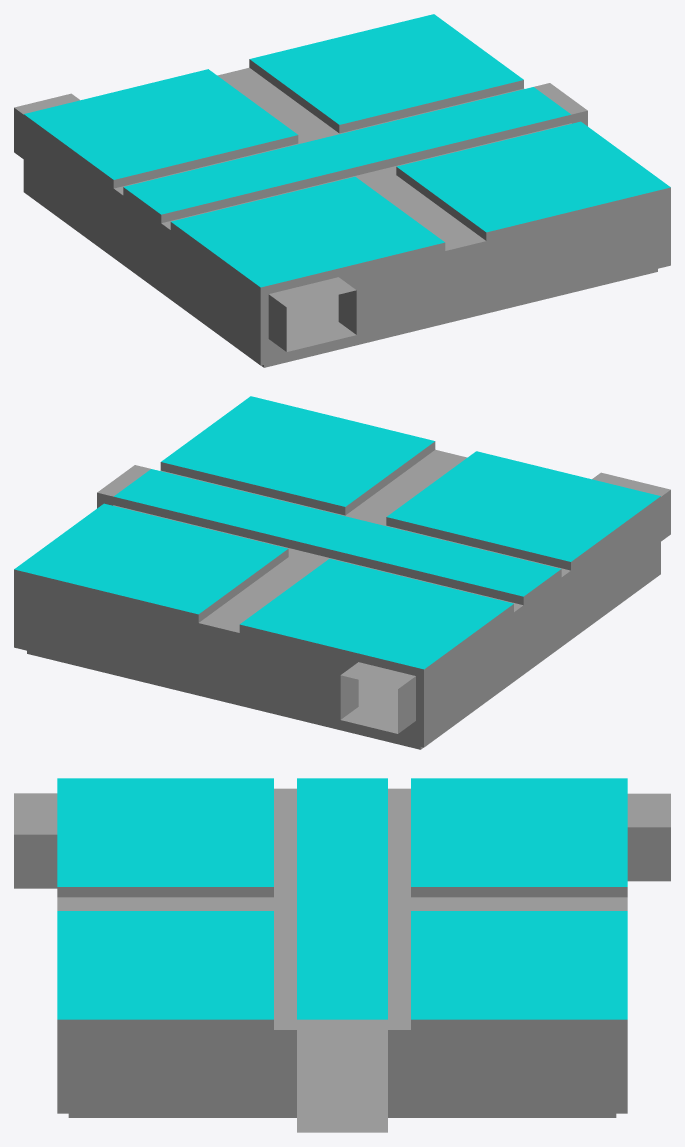
Rendered from BatteryDefenceRoom 1.fbx.
The picture shows the model from 3 angles, top to bottom: view 1: azimuth 30°, elevation 25°; view 2: azimuth 150°, elevation 25°; view 3: azimuth 270°, elevation 25°; orthographic projection. The views are drawn at different scales.
Visible parts, largest first — view 1: Walls_CeilingBeams, Window2, Window3, Window1, Window4, Window5, Floor; view 2: Walls_CeilingBeams, Window2, Window1, Window3, Window4, Window5, Floor; view 3: Walls_CeilingBeams, Window1, Window2, Window3, Window4, Window5, Floor.
Boxes of the visible parts, left/top/right/bottom form: Walls_CeilingBeams: left=14, top=59, right=670, bottom=367; Window2: left=171, top=176, right=444, bottom=287; Window3: left=24, top=69, right=297, bottom=179; Window1: left=396, top=121, right=670, bottom=232; Window4: left=250, top=14, right=523, bottom=124; Window5: left=124, top=87, right=570, bottom=214; Floor: left=286, top=294, right=338, bottom=334; Walls_CeilingBeams: left=14, top=441, right=670, bottom=749; Window2: left=387, top=451, right=660, bottom=561; Window1: left=161, top=396, right=434, bottom=506; Window3: left=240, top=558, right=513, bottom=669; Window4: left=14, top=503, right=287, bottom=614; Window5: left=114, top=469, right=560, bottom=596; Floor: left=358, top=680, right=397, bottom=716; Walls_CeilingBeams: left=14, top=788, right=670, bottom=1117; Window1: left=57, top=911, right=273, bottom=1019; Window2: left=57, top=778, right=273, bottom=886; Window3: left=411, top=778, right=627, bottom=886; Window4: left=411, top=911, right=627, bottom=1019; Window5: left=297, top=778, right=387, bottom=1019; Floor: left=297, top=1029, right=387, bottom=1132.
Bounding box in the file's own units: 26 × 5 × 28.8.
